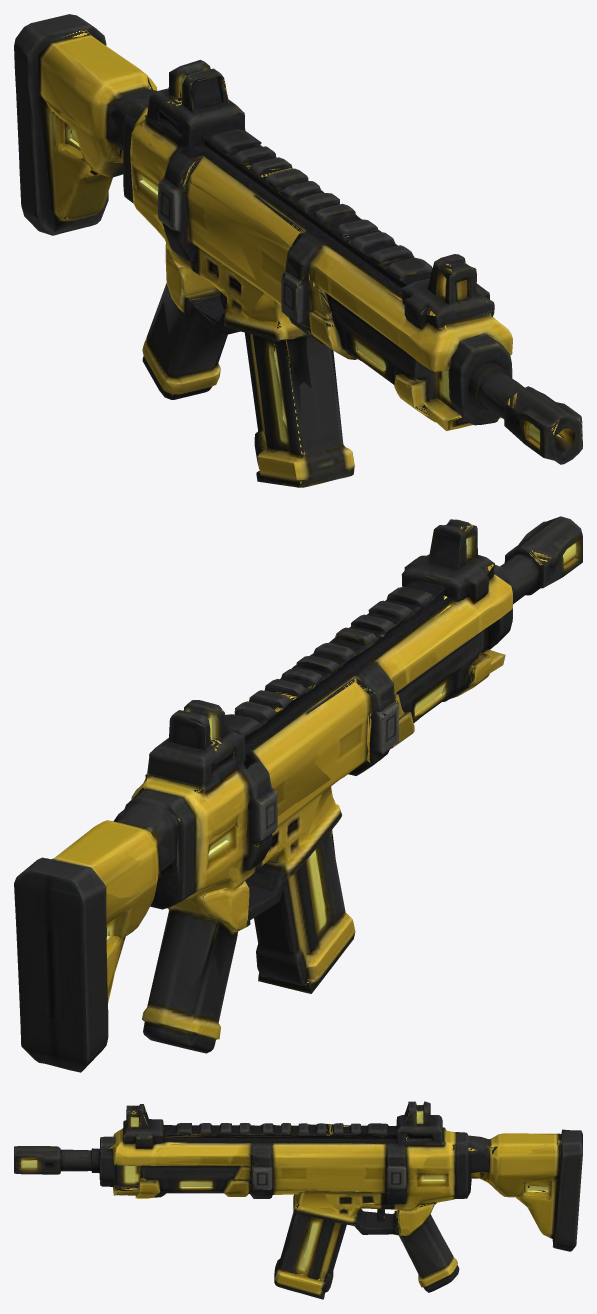
Rendered from amarillo.glb.
The picture shows the model from 3 angles, top to bottom: view 1: azimuth 30°, elevation 25°; view 2: azimuth 150°, elevation 25°; view 3: azimuth 270°, elevation 25°; orthographic projection. The views are drawn at different scales.
Parts seen in each view (by area): view 1: model, Mesh0_lod; view 2: model, Mesh0_lod; view 3: model, Mesh0_lod.
Boxes of the visible parts, bbox=[...] form: model: bbox=[14, 14, 582, 487]; Mesh0_lod: bbox=[16, 15, 582, 487]; model: bbox=[14, 516, 582, 1072]; Mesh0_lod: bbox=[18, 516, 582, 1072]; model: bbox=[14, 1101, 582, 1299]; Mesh0_lod: bbox=[14, 1103, 582, 1294].
Size of the model in its own units: 0.0751 by 0.2338 by 0.64.
Materials: 1 (1 with a texture image).
